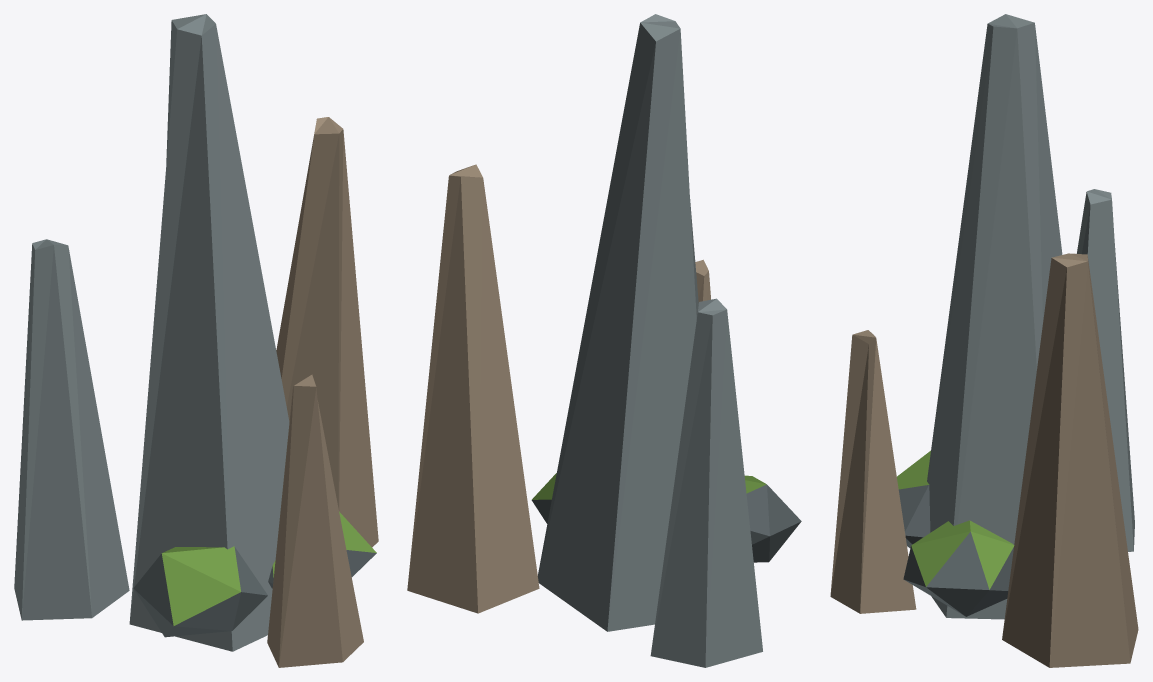
The model's file is world_rocks_spires.obj.
3 views of the same model, side by side, from view 1: azimuth 30°, elevation 25°; view 2: azimuth 150°, elevation 25°; view 3: azimuth 270°, elevation 25° (orthographic). The views are drawn at different scales.
Parts seen in each view (by area): view 1: world_rocks_spires; view 2: world_rocks_spires; view 3: world_rocks_spires.
Boxes of the visible parts, <box> form: world_rocks_spires: <box>14,14,378,667</box>; world_rocks_spires: <box>407,14,801,667</box>; world_rocks_spires: <box>830,14,1138,667</box>.
Size of the model in its own units: 8.66 by 14.23 by 7.1.
